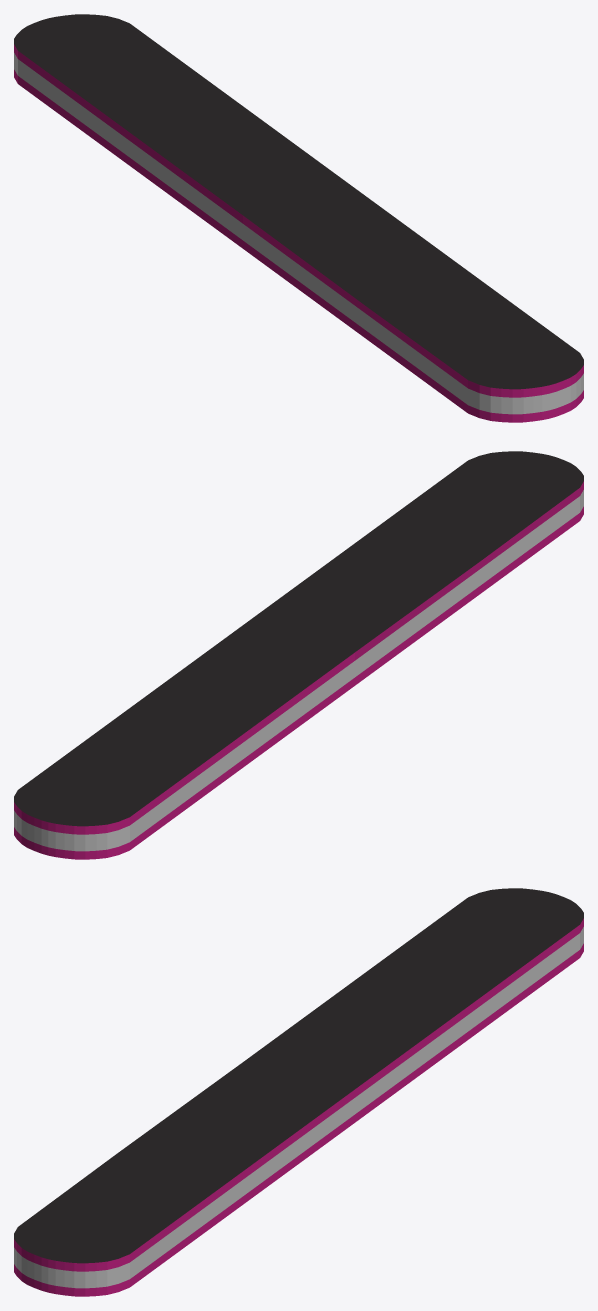
File: torpu2.obj
The picture shows the model from 3 angles, top to bottom: view 1: azimuth 30°, elevation 25°; view 2: azimuth 150°, elevation 25°; view 3: azimuth 330°, elevation 25°; orthographic projection.
Parts seen in each view (by area): view 1: Cube; view 2: Cube; view 3: Cube.
Boxes of the visible parts, <box> form: Cube: <box>14,14,583,422</box>; Cube: <box>14,451,583,859</box>; Cube: <box>14,888,583,1296</box>.
Size of the model in its own units: 1.32 by 0.3726 by 10.14.
